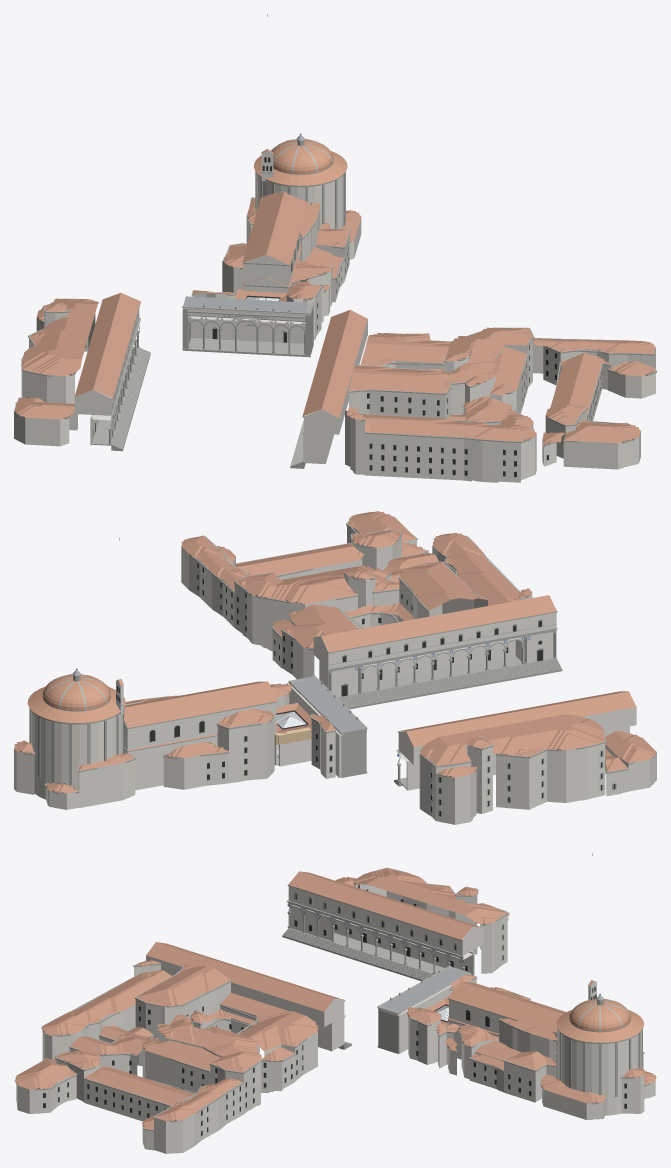
File: annunziata.glb
The picture shows the model from 3 angles, top to bottom: view 1: azimuth 30°, elevation 25°; view 2: azimuth 150°, elevation 25°; view 3: azimuth 270°, elevation 25°; orthographic projection. The views are drawn at different scales.
Parts seen in each view (by area): view 1: innocenti_corpi@1445-99999.roof_m, innocenti_corpi@1445-99999.plaster, servi_case@1574-99999.roof_m, servi_piano@1574-99999.roof, innocenti_piano@1439-99999.roof, servi_case@1574-99999.plaster, chiesa_portico@1601-99999.serena, chiesa_navata@1481-99999.roof, chiesa_cappelle@1481-99999.roof_m, chiesa_tribuna@1477-99999.tile, innocenti_corpi@1445-99999.serena, servi_loggia@1525-99999.serena (+12 smaller); view 2: innocenti_corpi@1445-99999.roof_m, servi_case@1574-99999.plaster, innocenti_corpi@1445-99999.plaster, chiesa_cappelle@1481-99999.plaster, servi_case@1574-99999.roof_m, innocenti_portico@1427-99999.serena, chiesa_tribuna@1477-99999.plaster, innocenti_piano@1439-99999.roof, innocenti_piano@1439-99999.plaster, chiesa_navata@1481-99999.roof, servi_piano@1574-99999.roof, chiesa_tribuna@1477-99999.tile (+21 smaller); view 3: innocenti_corpi@1445-99999.roof_m, innocenti_corpi@1445-99999.plaster, chiesa_cappelle@1481-99999.plaster, servi_loggia@1525-99999.serena, chiesa_cappelle@1481-99999.roof_m, chiesa_tribuna@1477-99999.plaster, servi_piano@1574-99999.roof, servi_case@1574-99999.roof_m, innocenti_piano@1439-99999.roof, servi_piano@1574-99999.plaster, chiesa_tribuna@1477-99999.tile, innocenti_corpi@1445-99999.serena (+16 smaller).
Boxes of the visible parts, x1,y1,x2,y2 form: innocenti_corpi@1445-99999.roof_m: [345, 327, 655, 444]; innocenti_corpi@1445-99999.plaster: [345, 339, 655, 482]; servi_case@1574-99999.roof_m: [14, 299, 98, 419]; servi_piano@1574-99999.roof: [75, 293, 140, 398]; innocenti_piano@1439-99999.roof: [302, 310, 367, 417]; servi_case@1574-99999.plaster: [14, 309, 95, 446]; chiesa_portico@1601-99999.serena: [182, 298, 313, 357]; chiesa_navata@1481-99999.roof: [242, 191, 308, 264]; chiesa_cappelle@1481-99999.roof_m: [222, 197, 361, 291]; chiesa_tribuna@1477-99999.tile: [254, 139, 347, 185]; innocenti_corpi@1445-99999.serena: [349, 327, 656, 477]; servi_loggia@1525-99999.serena: [92, 318, 150, 451]; innocenti_corpi@1445-99999.roof_m: [181, 511, 531, 648]; servi_case@1574-99999.plaster: [419, 743, 656, 824]; innocenti_corpi@1445-99999.plaster: [181, 526, 532, 679]; chiesa_cappelle@1481-99999.plaster: [14, 698, 274, 809]; servi_case@1574-99999.roof_m: [420, 714, 656, 777]; innocenti_portico@1427-99999.serena: [337, 634, 562, 709]; chiesa_tribuna@1477-99999.plaster: [29, 709, 122, 799]; innocenti_piano@1439-99999.roof: [321, 595, 556, 652]; innocenti_piano@1439-99999.plaster: [313, 612, 556, 668]; chiesa_navata@1481-99999.roof: [124, 681, 277, 727]; servi_piano@1574-99999.roof: [399, 691, 636, 746]; chiesa_tribuna@1477-99999.tile: [27, 674, 125, 723]; innocenti_corpi@1445-99999.roof_m: [14, 960, 318, 1129]; innocenti_corpi@1445-99999.plaster: [16, 965, 317, 1153]; chiesa_cappelle@1481-99999.plaster: [438, 1020, 655, 1119]; servi_loggia@1525-99999.serena: [282, 900, 465, 980]; chiesa_cappelle@1481-99999.roof_m: [436, 987, 656, 1103]; chiesa_tribuna@1477-99999.plaster: [558, 1030, 642, 1115]; servi_piano@1574-99999.roof: [288, 871, 481, 939]; servi_case@1574-99999.roof_m: [335, 868, 509, 924]; innocenti_piano@1439-99999.roof: [146, 942, 343, 1011]; servi_piano@1574-99999.plaster: [288, 886, 483, 955]; chiesa_tribuna@1477-99999.tile: [556, 999, 644, 1042]; innocenti_corpi@1445-99999.serena: [15, 963, 317, 1136].
Size of the model in its own units: 195 by 84.94 by 213.
